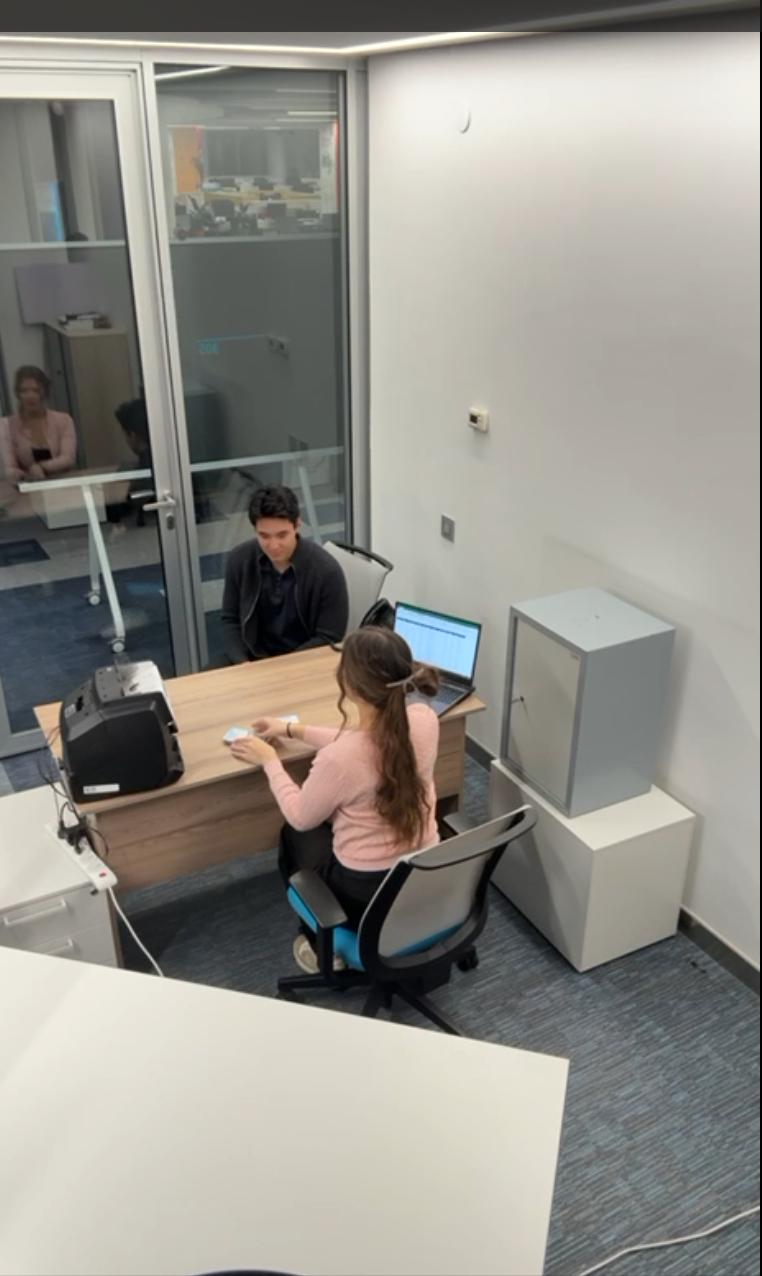cash_stack: (222, 726, 270, 747)
counter: (57, 667, 193, 789)
key_in: (513, 682, 542, 724)
screen_on: (393, 620, 481, 679)
